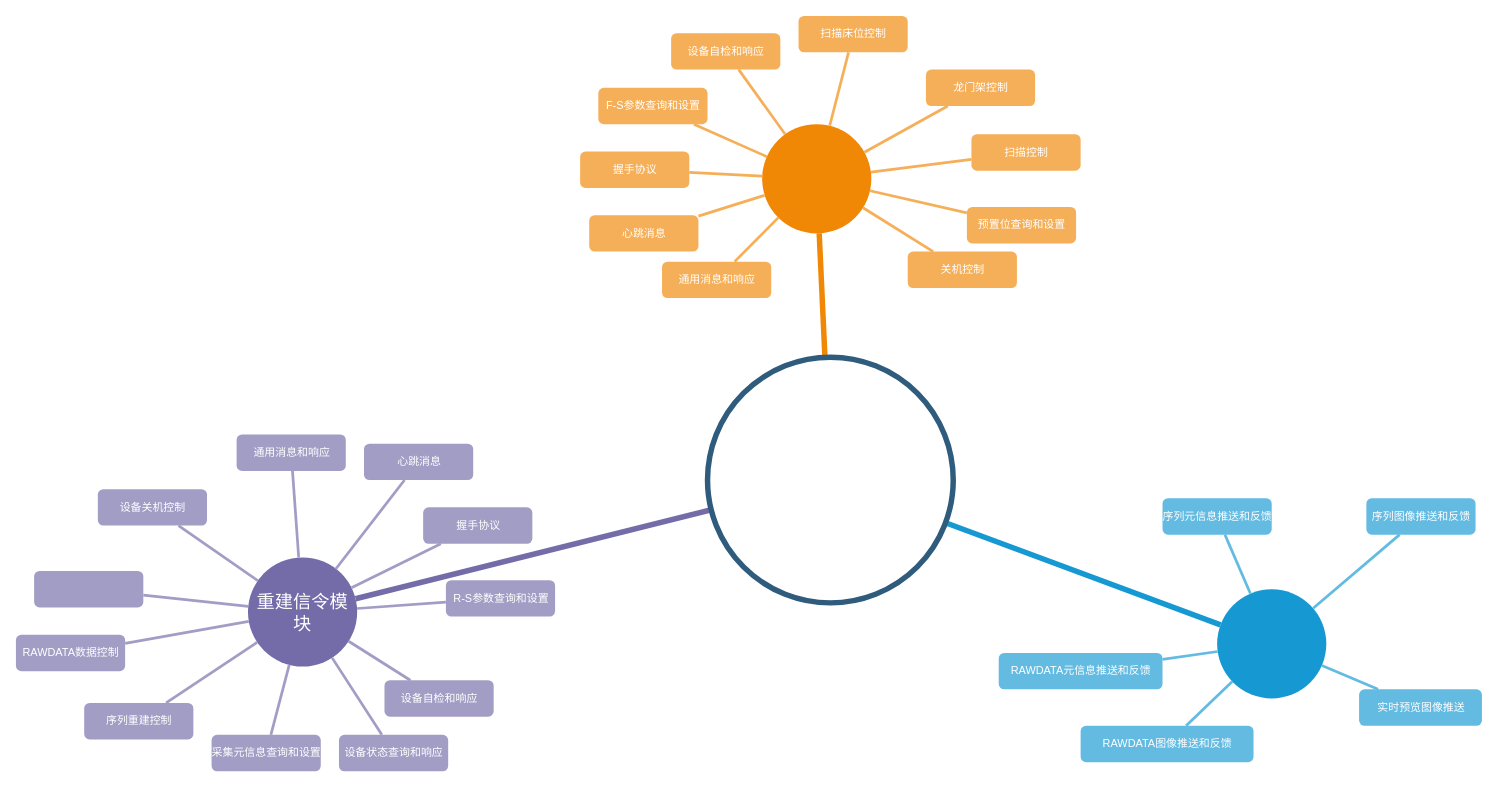
The diagram is 1497 pixels wide and 786 high, and some of its shapes have lost their labels. The shapes that lost their labels are listed below. From the top down, each one's centre as x and y in pixels, then its label:
[816,178]: 设备控制模块
[830,479]: T03CEye-24服务器软件数据通讯模块
[88,589]: RAWDATA索引查询
[1271,643]: 重建数据模块
